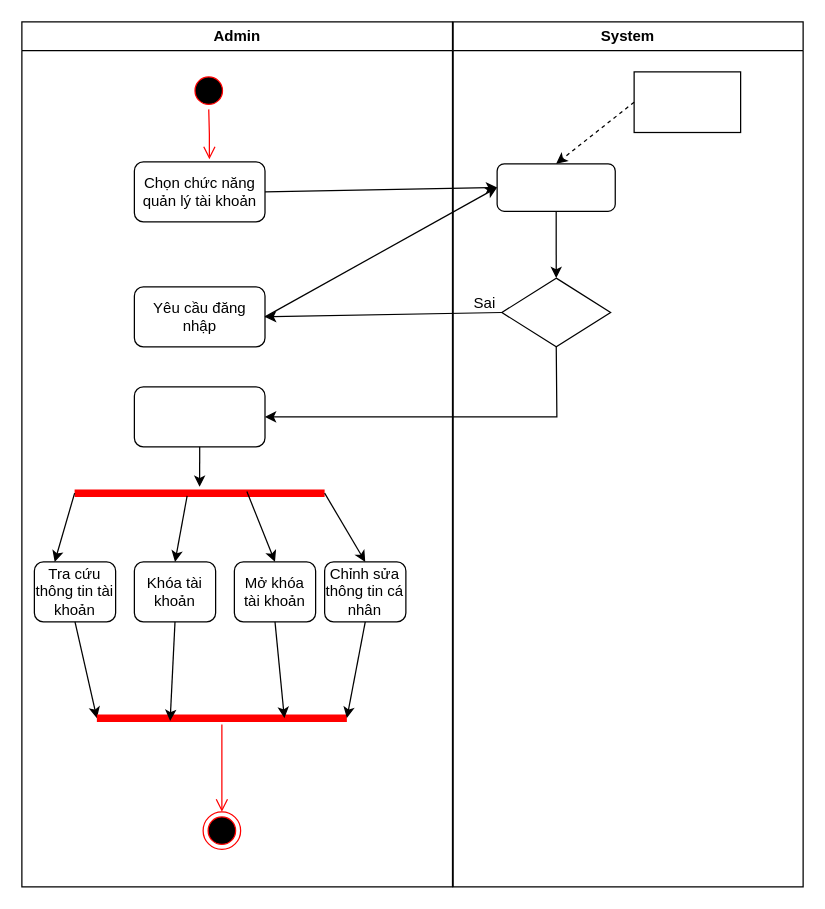
The diagram is 825 pixels wide and 909 high, and some of its shapes have lost their labels. The centre of each missing label's shape, as x and y in pixels:
"Kiểm tra đăng nhập" goes at (x=555, y=186).
"Lựa chọn chức năng" goes at (x=199, y=416).
"Tài khoản" goes at (x=687, y=101).
